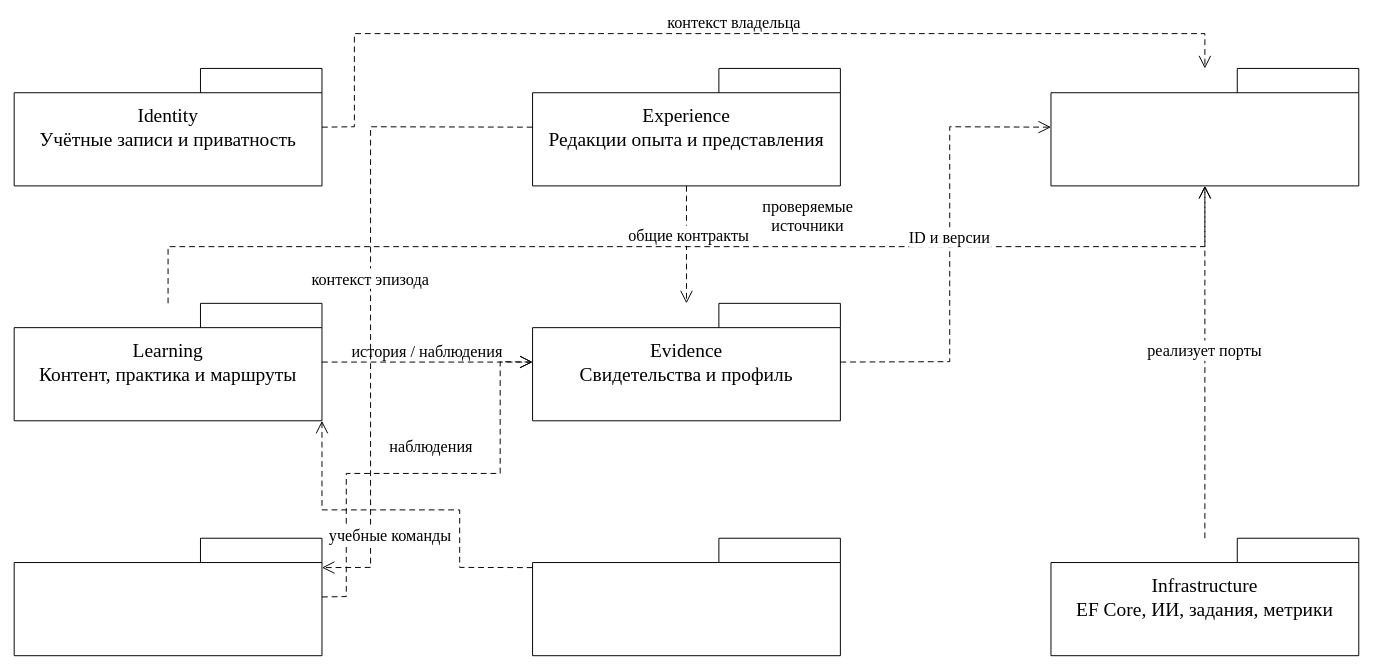
Image size: 1374x670. Some labels were removed from this diagram. Here are the shapes that lost their labels. From the top down, the centre of each, then its label:
At [1204,127]: "Shared.Contracts Владелец, ID, версии, порты".
At [167,596]: "WorkReflection Эпизоды и осмысление работы".
At [686,596]: "ClientSync Пакеты и повтор операций".
